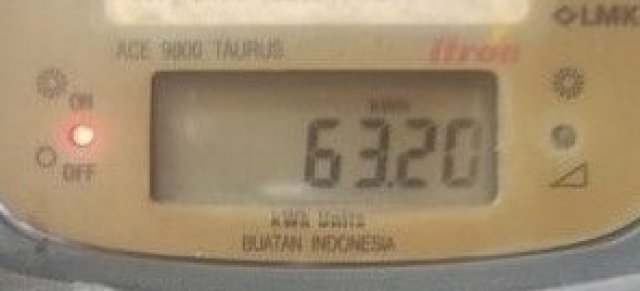box: (152, 73, 499, 206)
